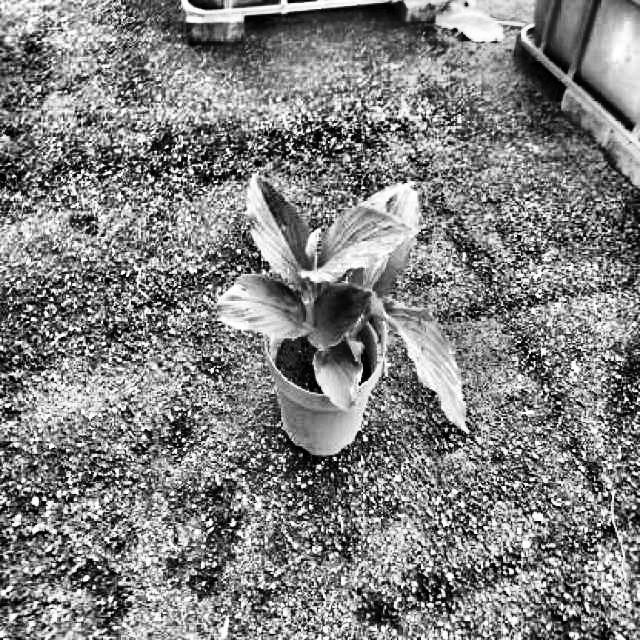plants: (218, 172, 477, 438)
